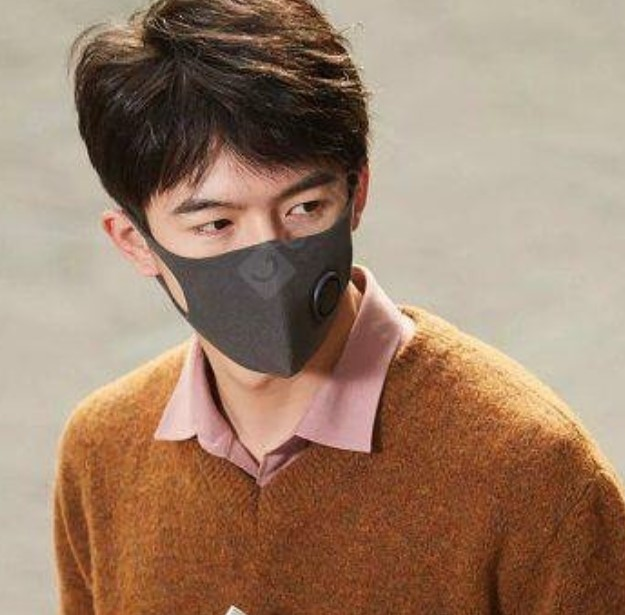face_with_mask: (91, 45, 375, 372)
